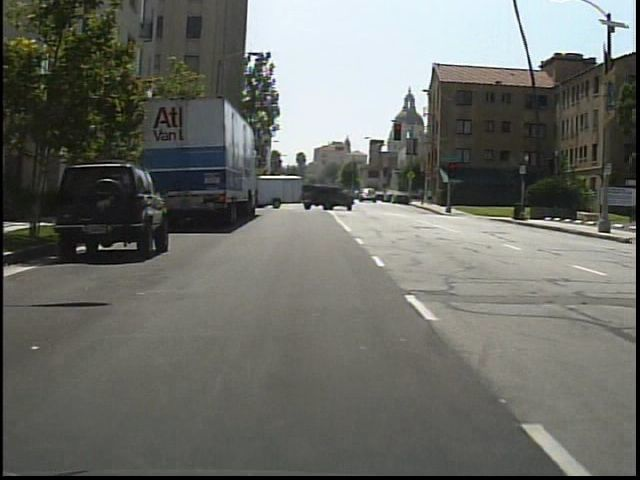person: (425, 184, 437, 210), (417, 187, 427, 209)
